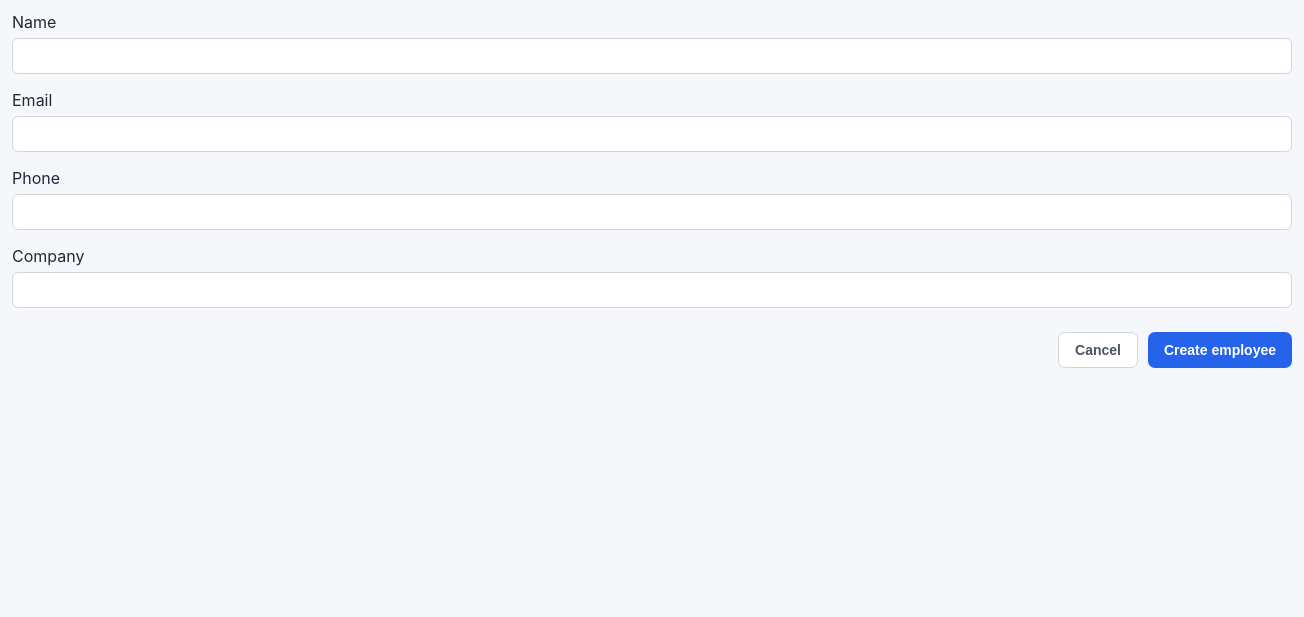
Test: EmployeeForm › shows validation errors when submitting empty form
Click the button "Create employee".
click(1220, 350)  # box [1148,332,1292,368]
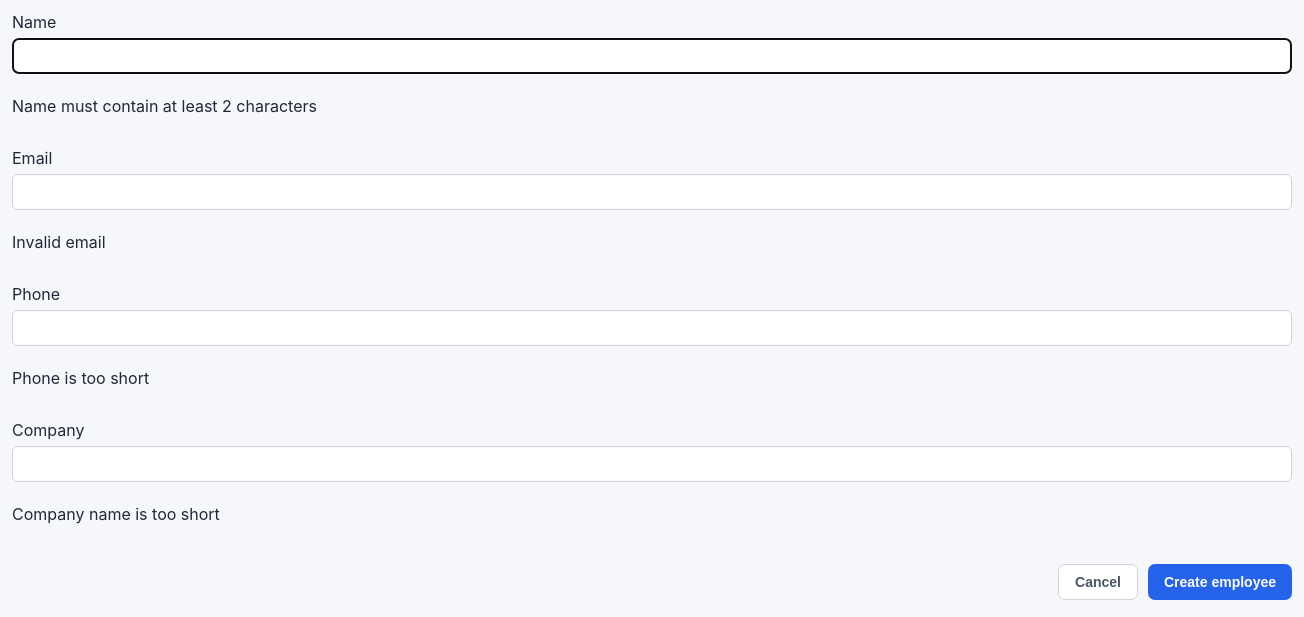
Expected: the text "Name must contain at least 2 characters" is shown, [12,96,317,116]
Expected: the text "Invalid email" is shown, [12,232,106,252]
Expected: the text "Phone is too short" is shown, [12,368,149,388]
